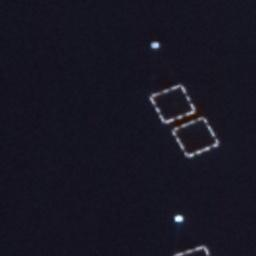square_solid: (169, 114, 222, 161), (145, 81, 200, 126)
